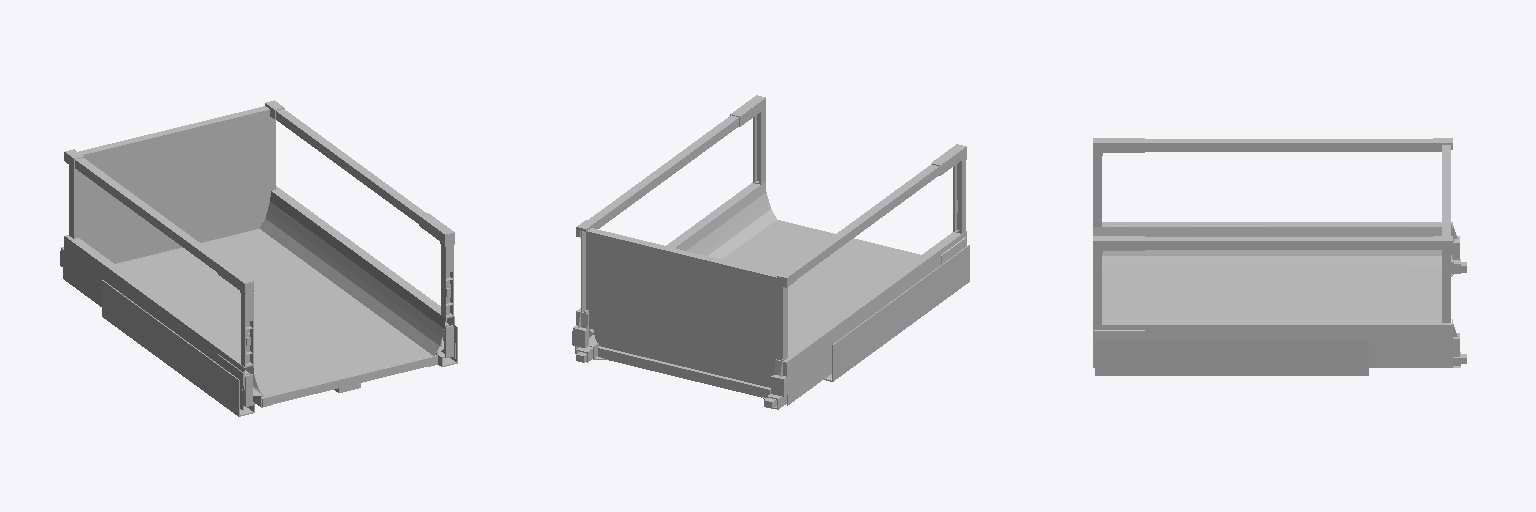
Rendered from IKEA.ART.00204634.obj.
3 views of the same model, side by side, from view 1: azimuth 30°, elevation 25°; view 2: azimuth 150°, elevation 25°; view 3: azimuth 270°, elevation 25° (orthographic).
Visible parts, largest first — view 1: model; view 2: model; view 3: model.
Boxes of the visible parts, x1,y1,x2,y2 form: model: [60, 100, 457, 416]; model: [572, 95, 969, 409]; model: [1093, 138, 1466, 375].
Bounding box in the file's own units: 0.365 × 0.2124 × 0.541.